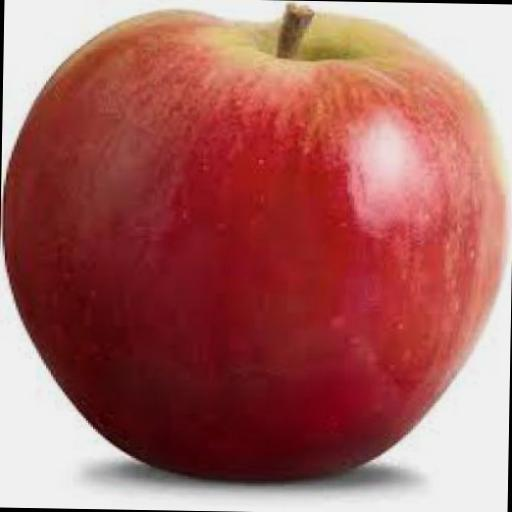biodegradable: (0, 0, 511, 486)
